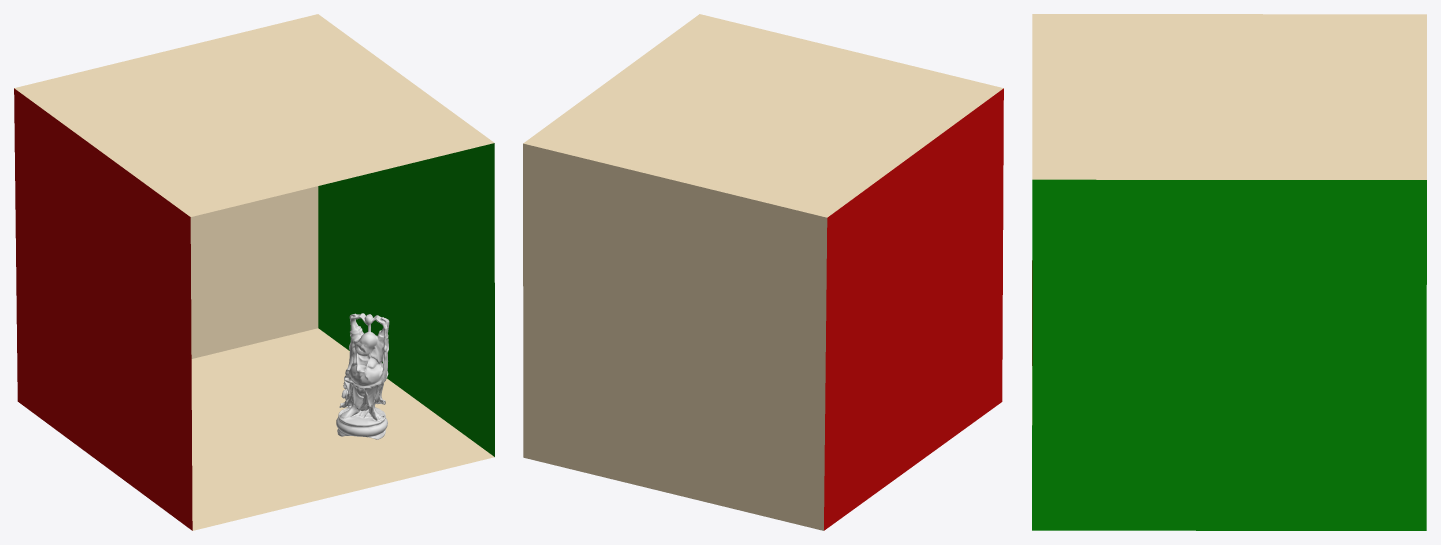
The model's file is cornell-box3.dae.
3 renders of one model, left to right at view 1: azimuth 30°, elevation 25°; view 2: azimuth 150°, elevation 25°; view 3: azimuth 270°, elevation 25°, orthographic. The views are drawn at different scales.
Parts seen in each view (by area): view 1: left_wall, ceiling, right_wall, floor, back_wall, buddha; view 2: back_wall, left_wall, ceiling; view 3: right_wall, ceiling.
Boxes of the visible parts, x1,y1,x2,y2 form: left_wall: [14, 88, 192, 530]; ceiling: [14, 14, 494, 216]; right_wall: [318, 143, 494, 456]; floor: [191, 328, 494, 530]; back_wall: [190, 186, 318, 358]; buddha: [336, 313, 389, 439]; back_wall: [523, 143, 827, 530]; left_wall: [824, 88, 1003, 530]; ceiling: [523, 14, 1003, 217]; right_wall: [1032, 179, 1426, 530]; ceiling: [1032, 14, 1426, 179].
Bounding box in the file's own units: 5.56 × 5.6 × 5.49.
